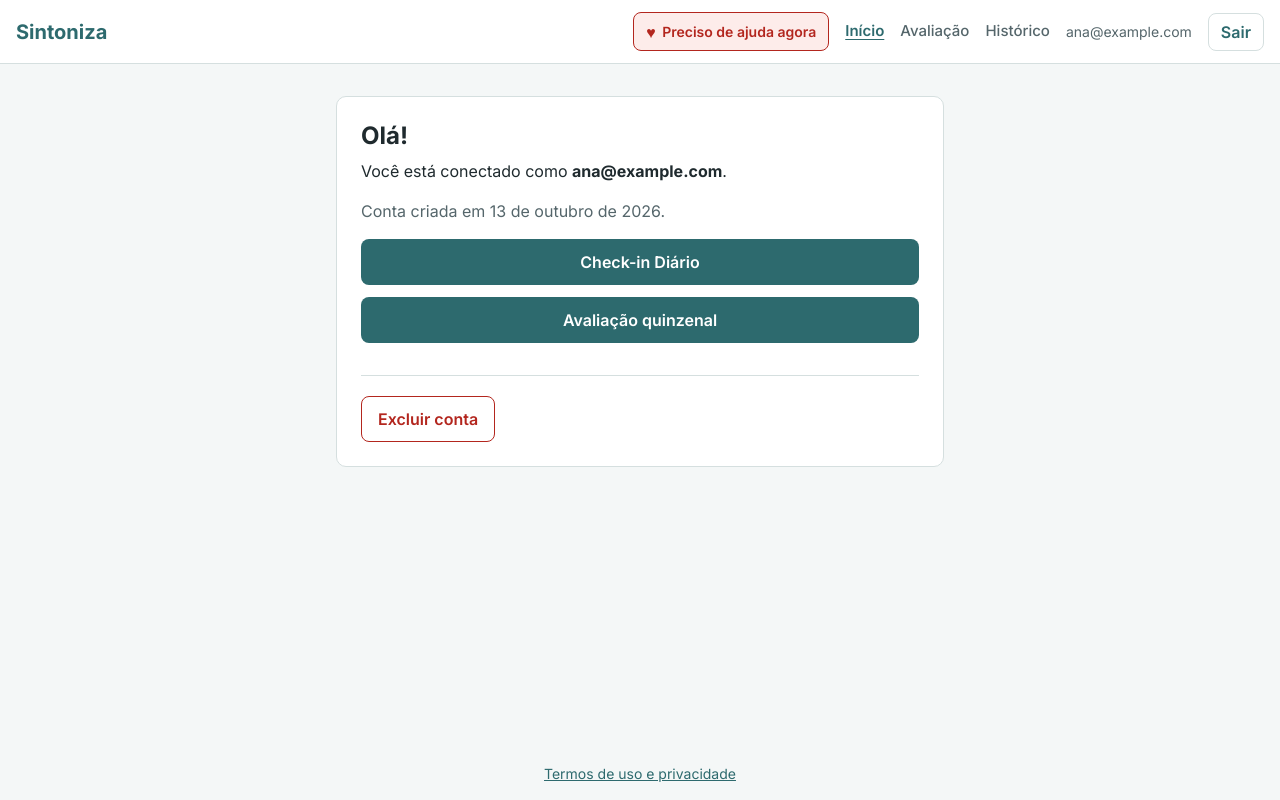
Scenario: ExcluirConta (R04) › keeps the session and shows an error when the deletion fails
Expected: the heading "Olá!" is shown, [361, 121, 408, 150]
Click the button "Excluir conta" at (428, 419), box [361, 396, 495, 442]
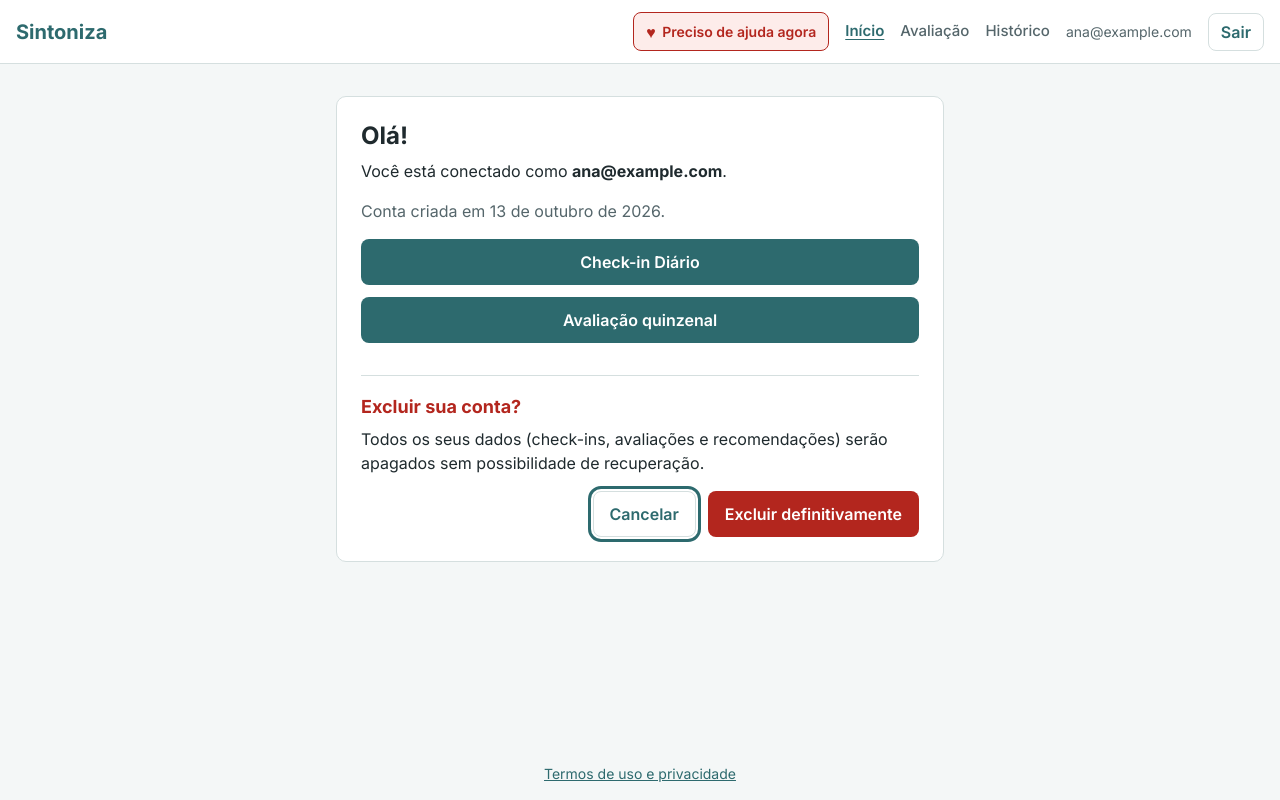
Click the button "Excluir definitivamente" at (813, 514), box [708, 490, 919, 536]
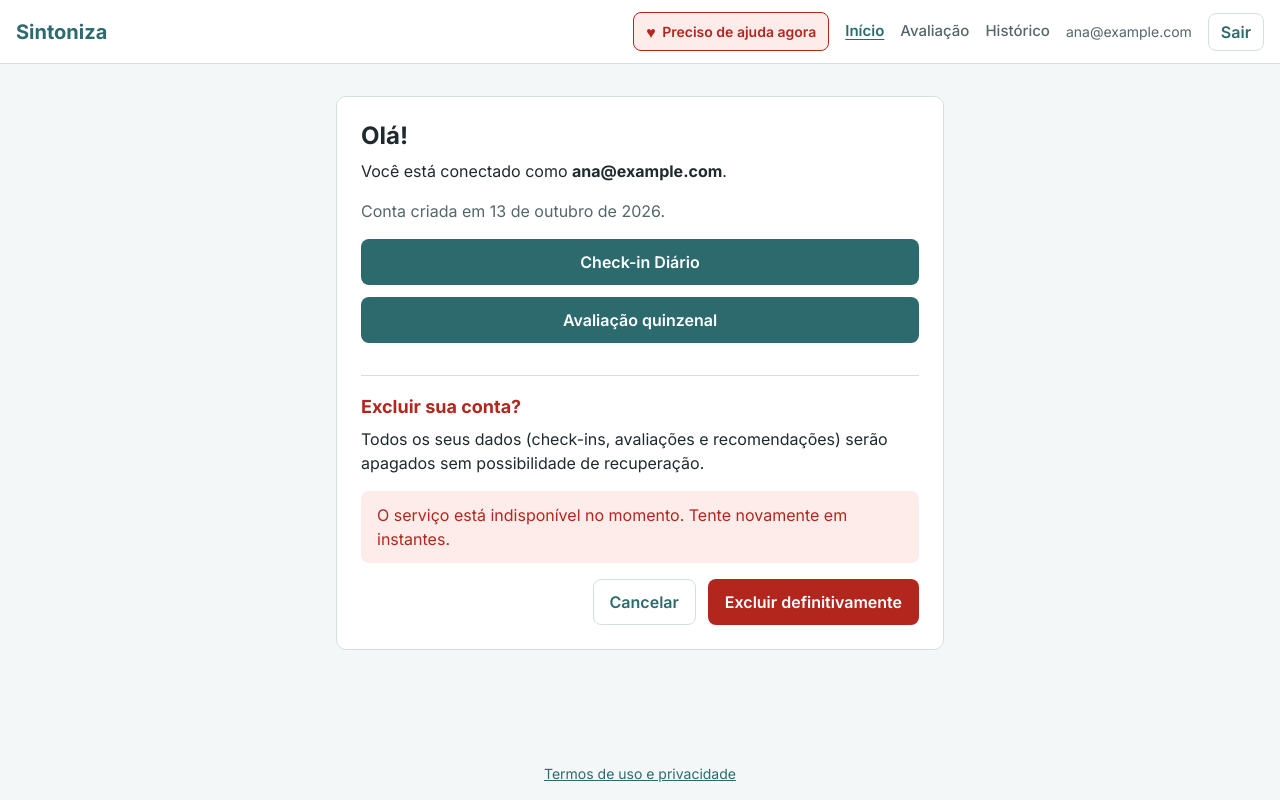
Expected: the heading "Olá!" is shown, [361, 121, 408, 150]
Expected: the button "Excluir definitivamente" is enabled, [708, 578, 919, 624]
Expected: the message shows "indisponível no momento", [377, 504, 847, 548]
